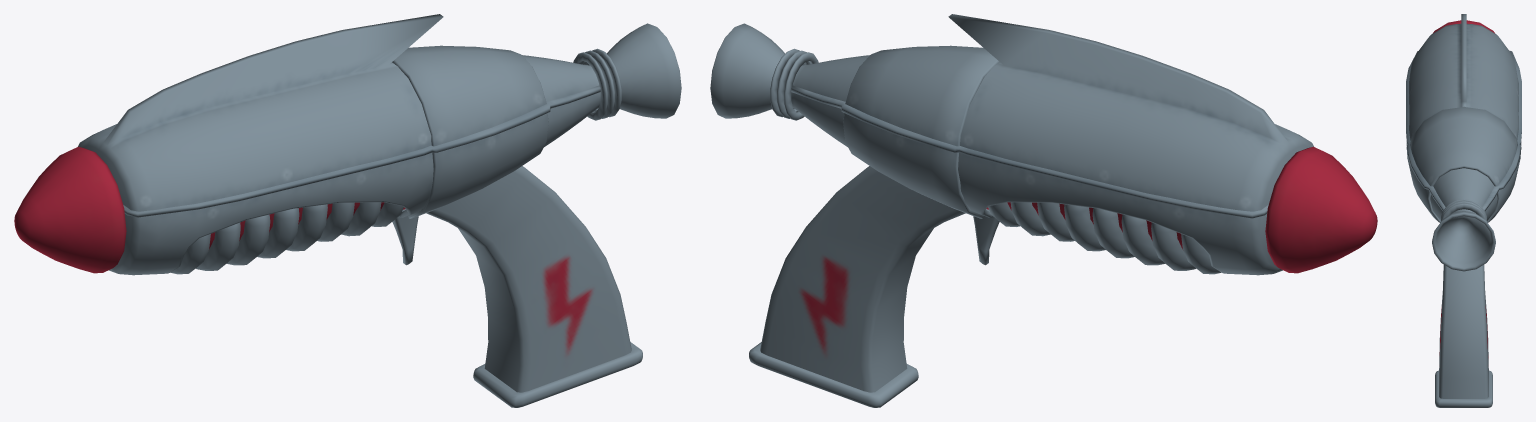
3 renders of one model, left to right at view 1: azimuth 30°, elevation 25°; view 2: azimuth 150°, elevation 25°; view 3: azimuth 270°, elevation 25°, orthographic. The views are drawn at different scales.
Parts seen in each view (by area): view 1: 3, 14; view 2: 3, 14; view 3: 3, 14.
Part boxes in pixels (x1,y1,x2,y2): 3: (78, 14, 681, 407); 14: (14, 146, 405, 273); 3: (710, 14, 1313, 407); 14: (986, 146, 1377, 273); 3: (1406, 14, 1521, 407); 14: (1433, 20, 1494, 33).
Size of the model in its own units: 5.82 by 3.47 by 1.38.
Materials: 2 (2 with a texture image).
